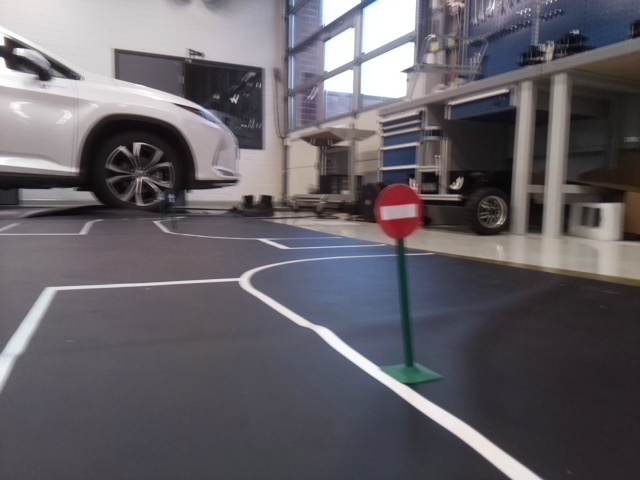NoEntry: (369, 184, 424, 240)
